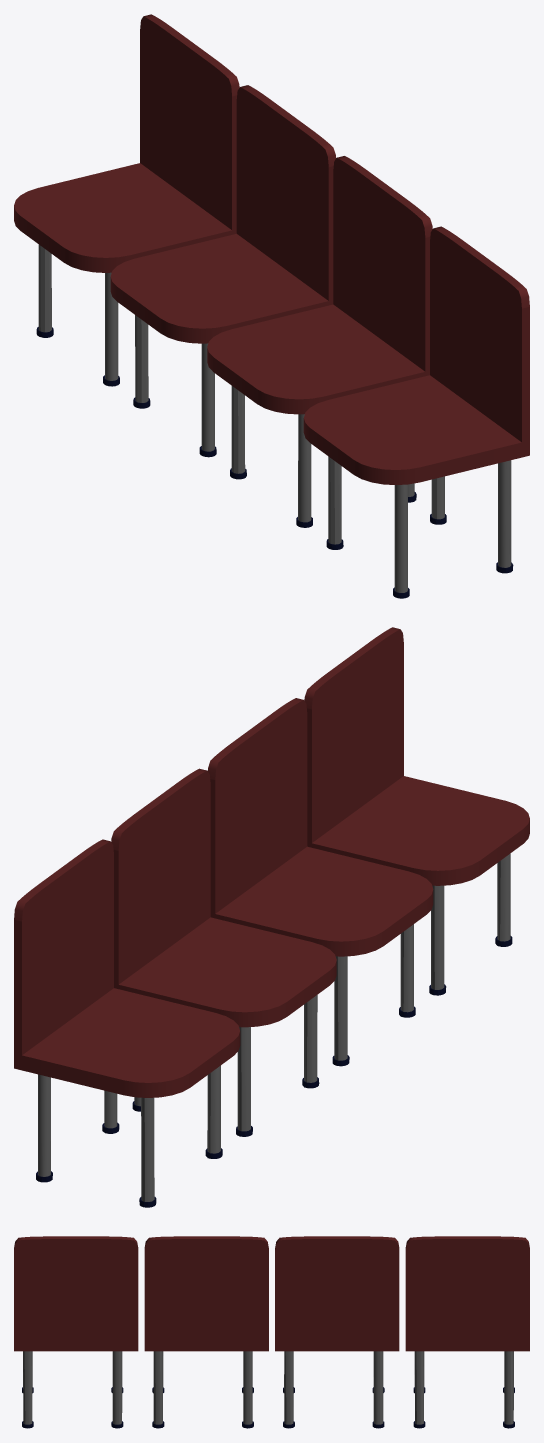
The model's file is chairWating.fbx.
The picture shows the model from 3 angles, top to bottom: view 1: azimuth 30°, elevation 25°; view 2: azimuth 150°, elevation 25°; view 3: azimuth 270°, elevation 25°; orthographic projection. The views are drawn at different scales.
Visible parts, largest first — view 1: chair; view 2: chair; view 3: chair.
Boxes of the visible parts, x1,y1,x2,y2 form: chair: (14,14,529,598); chair: (14,627,529,1207); chair: (14,1236,529,1428).
Size of the model in its own units: 125 by 223 by 543.
